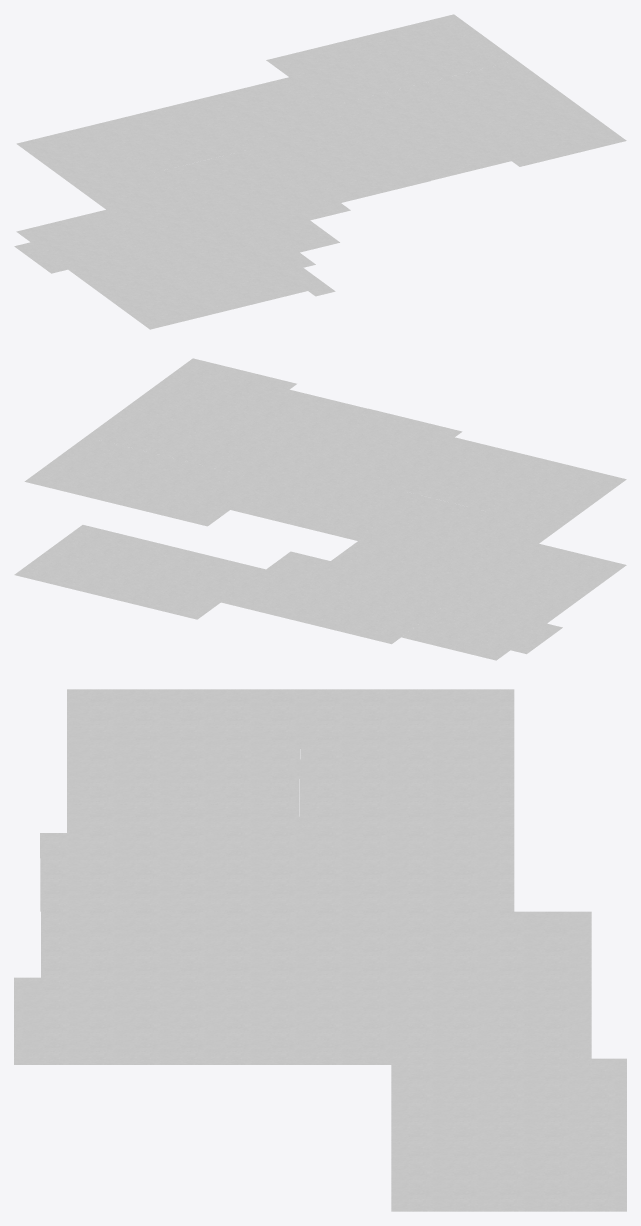
The model's file is Ceiling.FBX.
The picture shows the model from 3 angles, top to bottom: view 1: azimuth 30°, elevation 25°; view 2: azimuth 150°, elevation 25°; view 3: azimuth 270°, elevation 25°; orthographic projection. The views are drawn at different scales.
Parts seen in each view (by area): view 1: Ceiling12, Ceiling04, Ceiling06, Ceiling08, Ceiling11, Ceiling13, Ceiling09, Ceiling03, Ceiling07, Ceiling14, Ceiling10, Ceiling01 (+1 smaller); view 2: Ceiling12, Ceiling04, Ceiling03, Ceiling05, Ceiling06, Ceiling08, Ceiling11, Ceiling13, Ceiling09, Ceiling07, Ceiling14, Ceiling10 (+1 smaller); view 3: Ceiling12, Ceiling05, Ceiling06, Ceiling08, Ceiling11, Ceiling13, Ceiling09, Ceiling07, Ceiling14, Ceiling10.
Part boxes in pixels (x1,y1,x2,y2): Ceiling12: (329, 60, 626, 180); Ceiling04: (14, 210, 287, 329); Ceiling06: (128, 106, 430, 204); Ceiling08: (68, 161, 269, 241); Ceiling11: (199, 47, 356, 128); Ceiling13: (319, 30, 467, 99); Ceiling09: (16, 114, 160, 181); Ceiling03: (158, 198, 350, 257); Ceiling07: (201, 147, 325, 212); Ceiling14: (387, 14, 516, 72); Ceiling10: (138, 99, 238, 144); Ceiling01: (250, 255, 335, 296); Ceiling12: (86, 358, 367, 481); Ceiling04: (401, 543, 626, 660); Ceiling03: (221, 541, 466, 644); Ceiling05: (14, 525, 265, 619); Ceiling06: (269, 408, 499, 524); Ceiling08: (442, 451, 626, 538); Ceiling11: (156, 475, 356, 531); Ceiling13: (89, 448, 240, 513); Ceiling09: (378, 520, 545, 574); Ceiling07: (386, 437, 509, 500); Ceiling14: (24, 437, 132, 497); Ceiling10: (319, 503, 429, 545); Ceiling12: (14, 911, 380, 1064); Ceiling05: (391, 1058, 626, 1211); Ceiling06: (40, 738, 396, 911); Ceiling08: (67, 689, 343, 787); Ceiling11: (381, 837, 591, 954); Ceiling13: (381, 934, 591, 1025); Ceiling09: (343, 689, 514, 788); Ceiling07: (67, 787, 299, 833); Ceiling14: (381, 1010, 591, 1064); Ceiling10: (381, 769, 514, 837).
Bounding box in the file's own units: 1518 × 267 × 1010.
